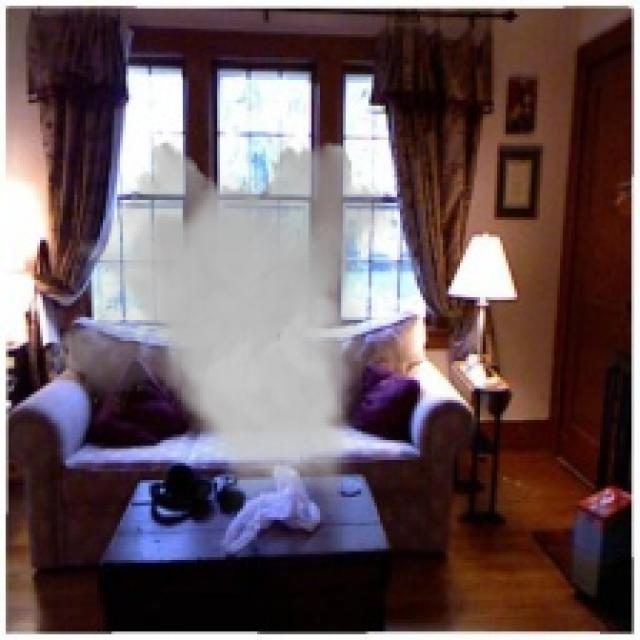smoke: (43, 132, 397, 514)
